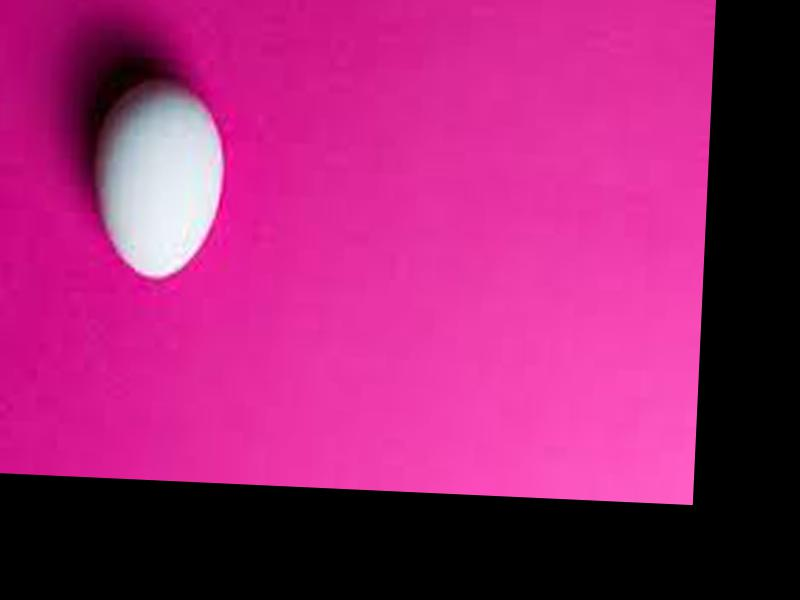Eggs: (91, 77, 228, 281)
